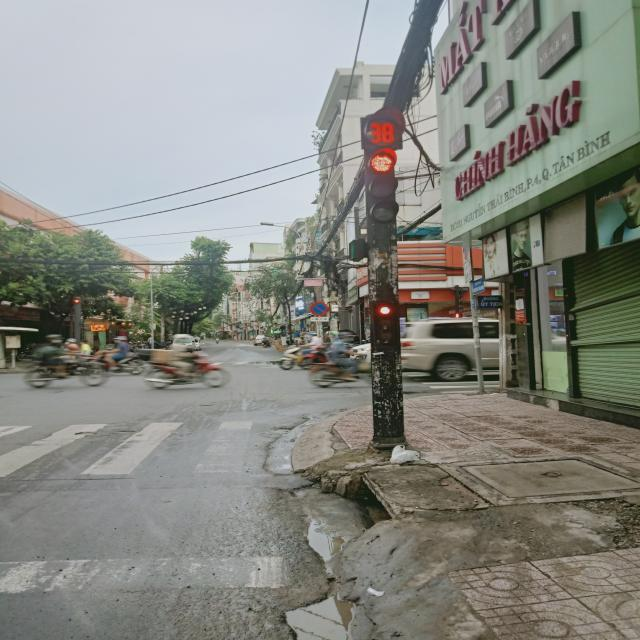Red: (366, 147, 400, 227), (369, 296, 396, 353)
